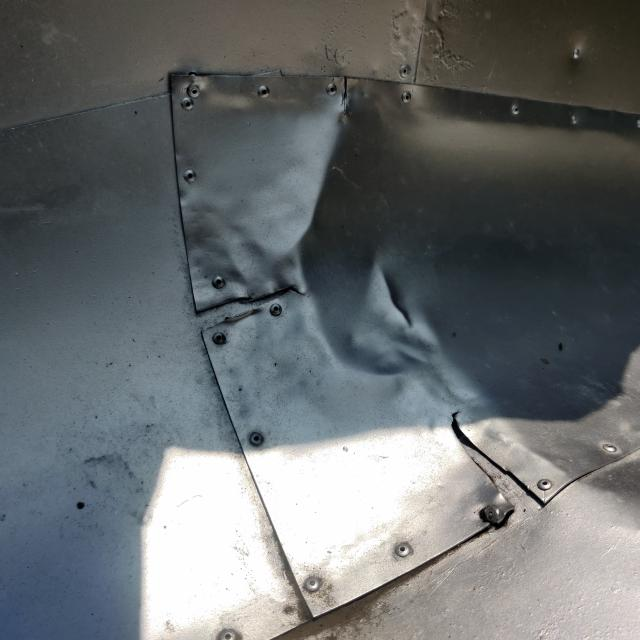crack: (435, 399, 557, 529), (186, 273, 316, 354), (325, 68, 362, 126)
dent: (284, 79, 512, 405)
